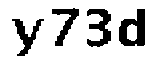3: (87, 6, 114, 52)
7: (51, 5, 82, 52)
d: (119, 9, 148, 52)
y: (7, 15, 46, 60)
